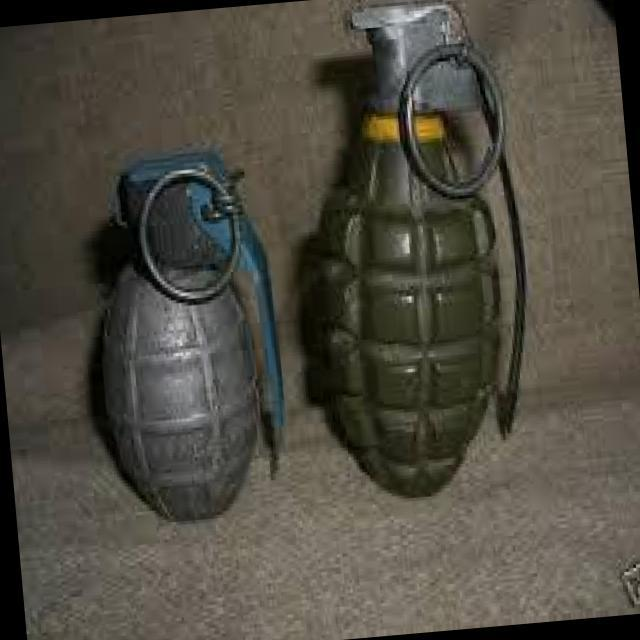grenade: (260, 0, 577, 505), (62, 144, 296, 534)
